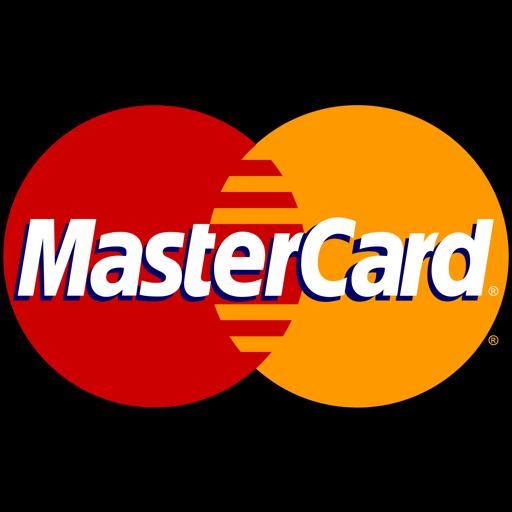Mastercard International: (0, 102, 512, 409)
